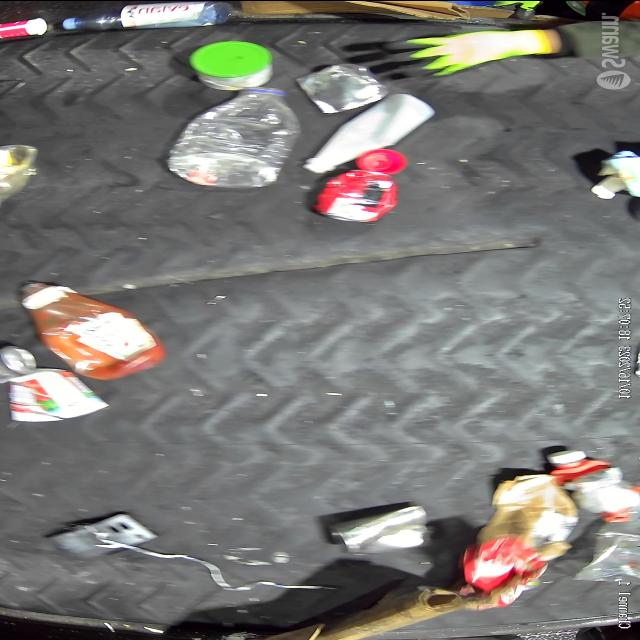can: (329, 506, 434, 556)
plastic_bottle: (162, 84, 303, 186)
